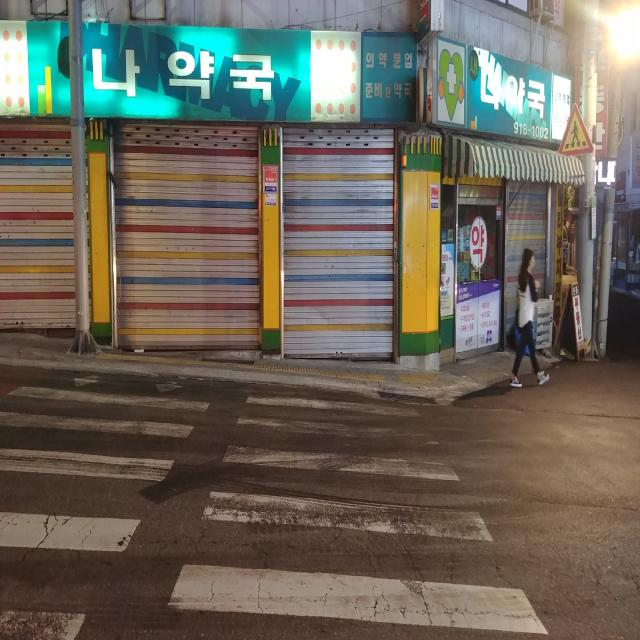횡단보도: (0, 374, 549, 640)
